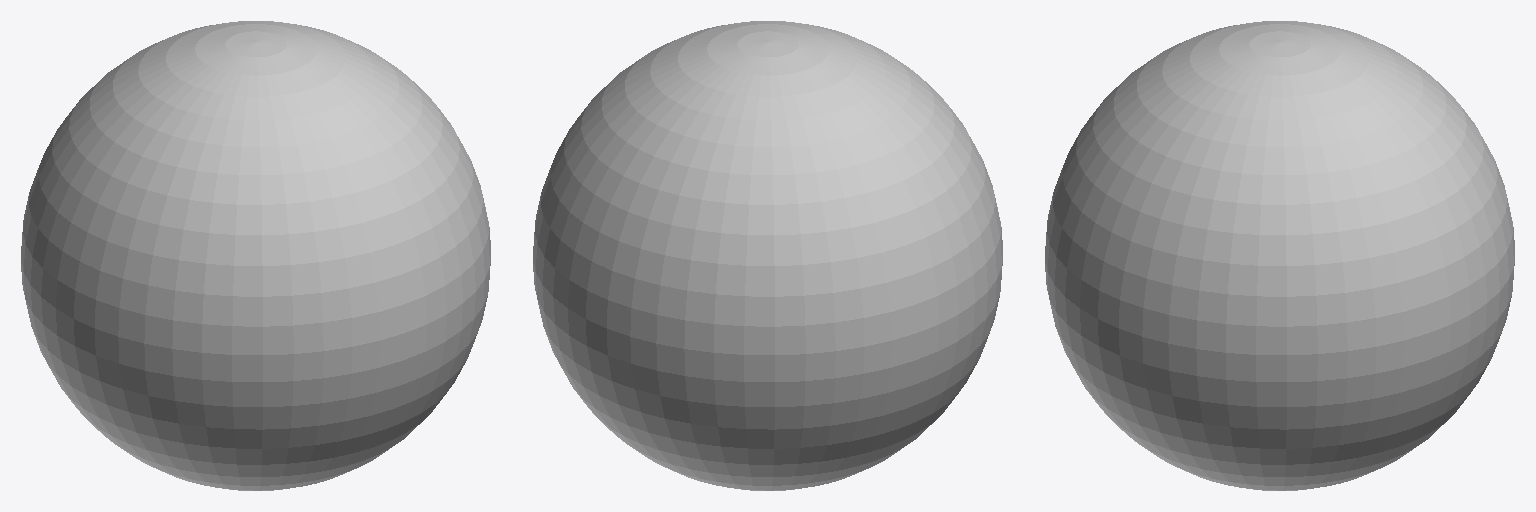
The model's file is gradient-sphere.obj.
3 views of the same model, side by side, from view 1: azimuth 30°, elevation 25°; view 2: azimuth 150°, elevation 25°; view 3: azimuth 270°, elevation 25° (orthographic).
Visible parts, largest first — view 1: Sphere; view 2: Sphere; view 3: Sphere.
Part boxes in pixels (bbox=[...]): Sphere: bbox=[21, 21, 490, 490]; Sphere: bbox=[533, 21, 1002, 490]; Sphere: bbox=[1045, 21, 1514, 490].
Size of the model in its own units: 200 by 200 by 200.